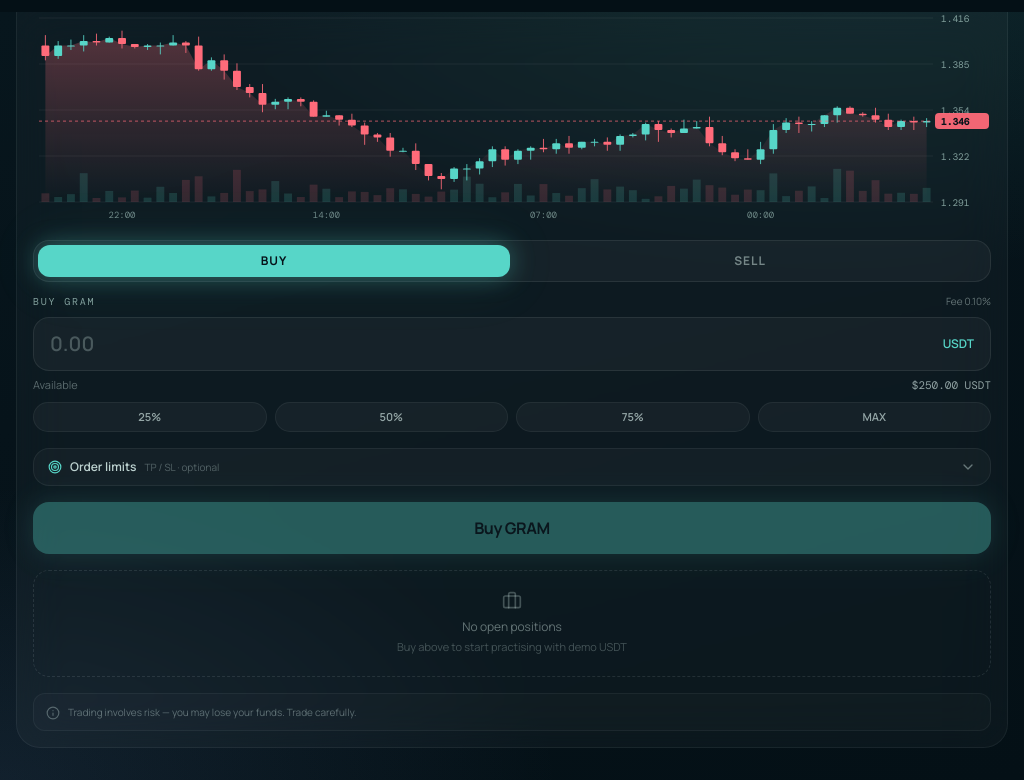
Test: selling › has nothing to sell before a position exists
(page scrolled)
Expected: the element with test id "trade-side-toggle" is shown, [33,240,991,282]
Click the button with test id "trade-side-sell" at (750, 261), box [514,245,986,277]
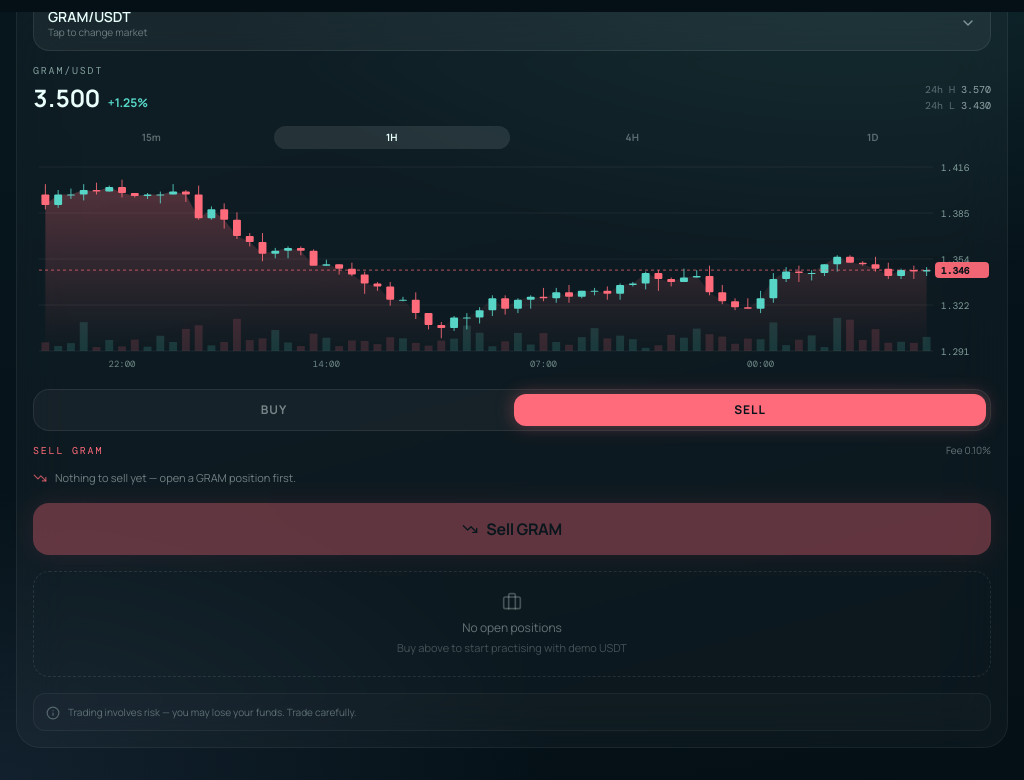
Expected: the element with test id "trade-sell-empty" is shown, [33,470,296,485]
Expected: the button with test id "trade-buy-submit" reads "Sell GRAM", [33,502,991,554]
Expected: the button with test id "trade-limits-toggle" is gone
